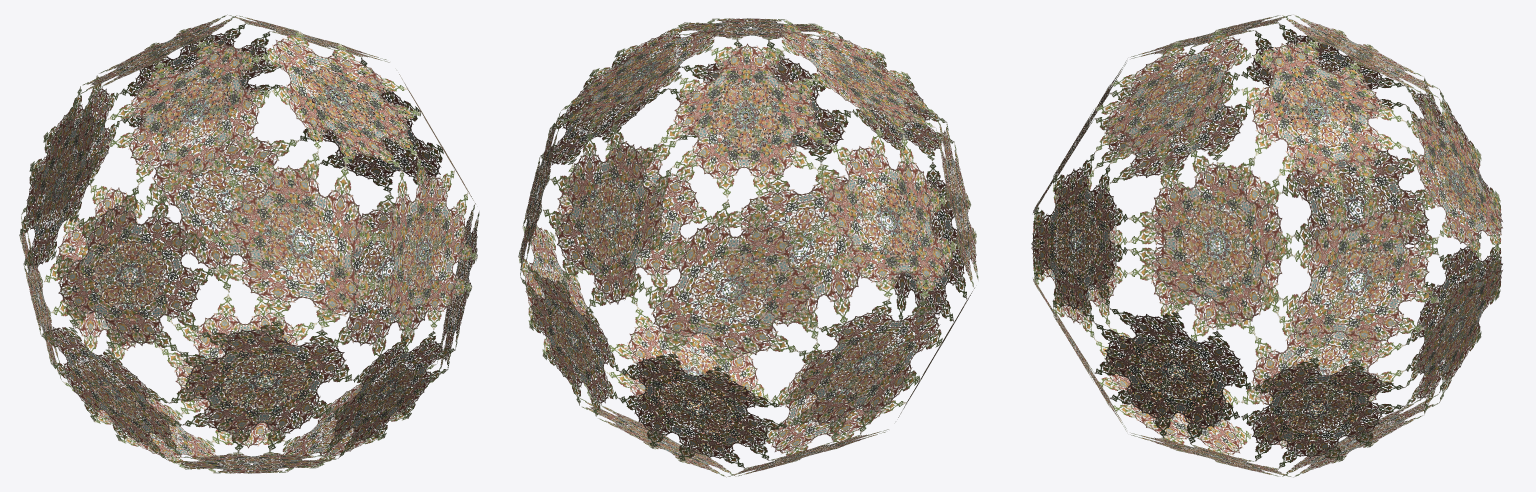
The model's file is PentagonalIcositetrahedron10.obj.
3 renders of one model, left to right at view 1: azimuth 30°, elevation 25°; view 2: azimuth 150°, elevation 25°; view 3: azimuth 270°, elevation 25°, orthographic.
Bounding box in the file's own units: 2.72 × 2.72 × 2.72.
Materials: 1 (1 with a texture image).
